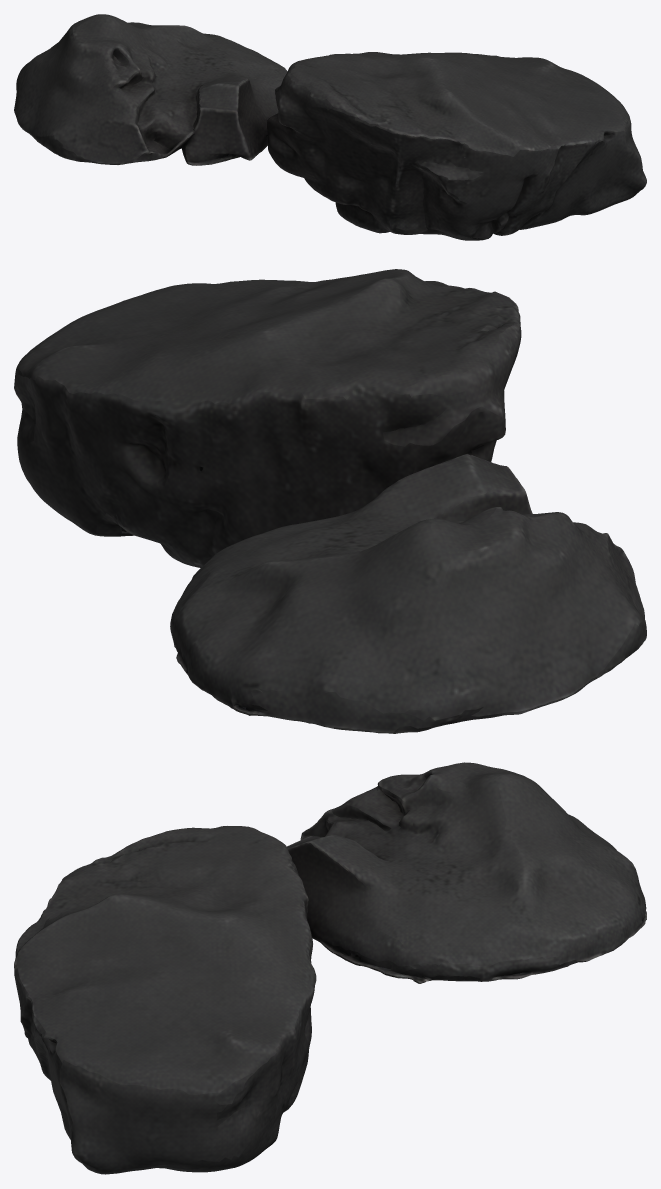
3 views of the same model, one above another, from view 1: azimuth 30°, elevation 25°; view 2: azimuth 150°, elevation 25°; view 3: azimuth 270°, elevation 25° (orthographic). The views are drawn at different scales.
Parts seen in each view (by area): view 1: world; view 2: world; view 3: world.
Boxes of the visible parts, x1=… form: world: x1=14, y1=14, x2=646, y2=240; world: x1=14, y1=269, x2=646, y2=733; world: x1=14, y1=762, x2=646, y2=1174.
Size of the model in its own units: 1.2 by 0.3742 by 1.14.
1 material, 1 textured.
